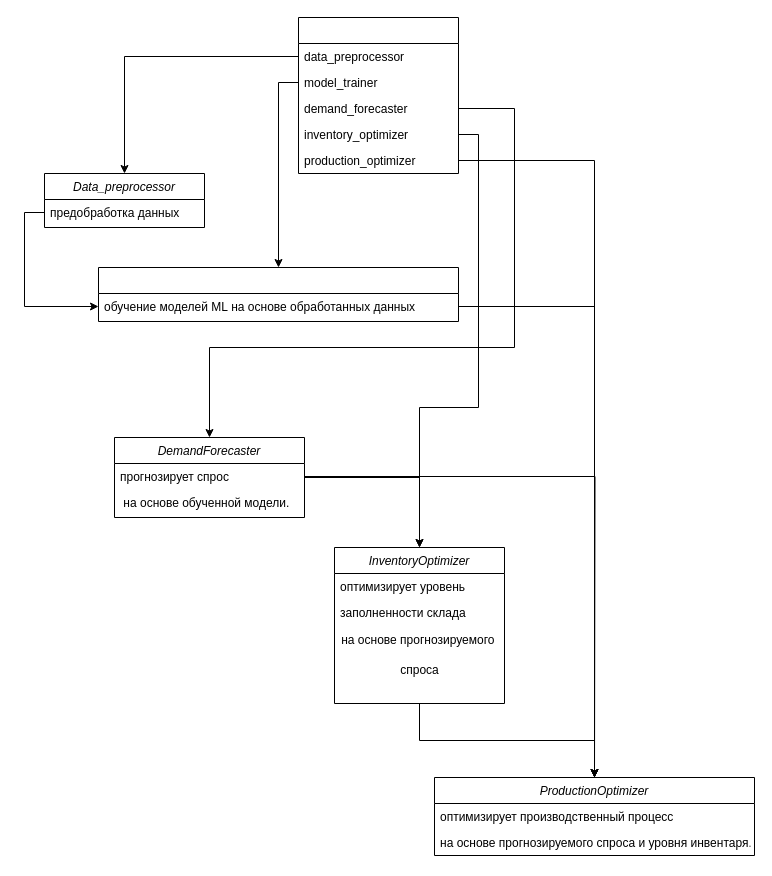
The diagram is 772 pixels wide and 876 high, and some of its shapes have lost their labels. Here are the shapes that lost their labels. From the top down, the box of each, then its label:
(298, 16, 458, 174): MLSystem
(98, 266, 458, 322): modelTrainer
